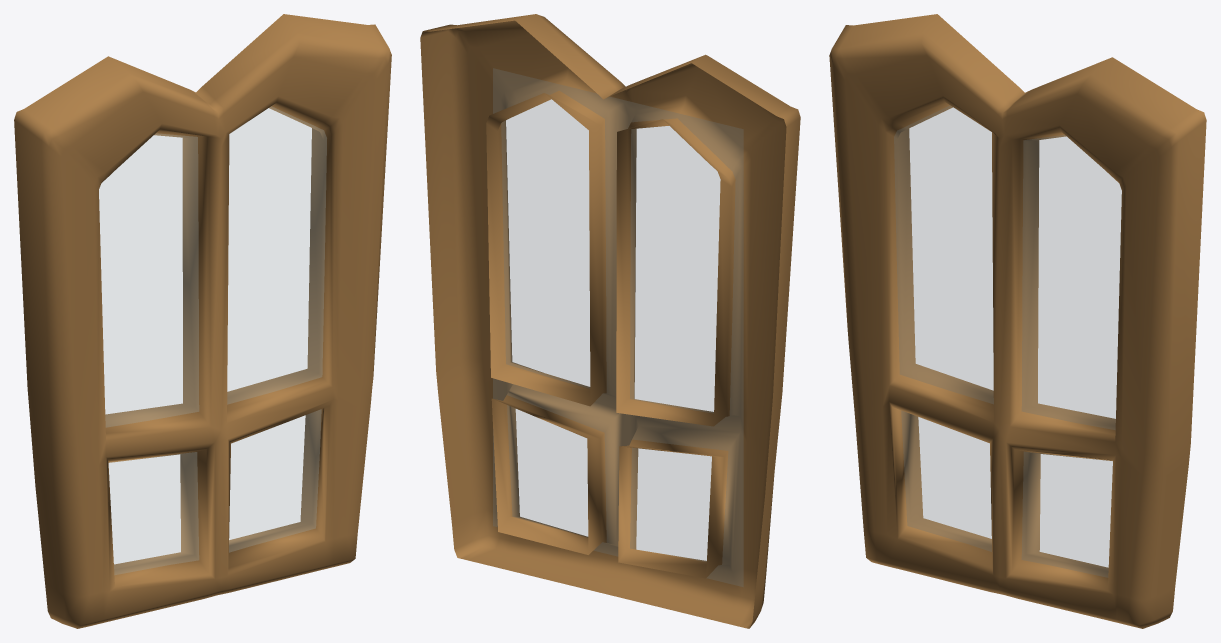
Rendered from props_window_3.fbx.
3 renders of one model, left to right at view 1: azimuth 30°, elevation 25°; view 2: azimuth 150°, elevation 25°; view 3: azimuth 330°, elevation 25°, orthographic.
Visible parts, largest first — view 1: Props_window3; view 2: Props_window3; view 3: Props_window3.
Part boxes in pixels (x1=…): Props_window3: x1=14, y1=14, x2=391, y2=628; Props_window3: x1=420, y1=14, x2=800, y2=628; Props_window3: x1=829, y1=14, x2=1206, y2=628.
Bounding box in the file's own units: 188 × 271 × 22.89.
